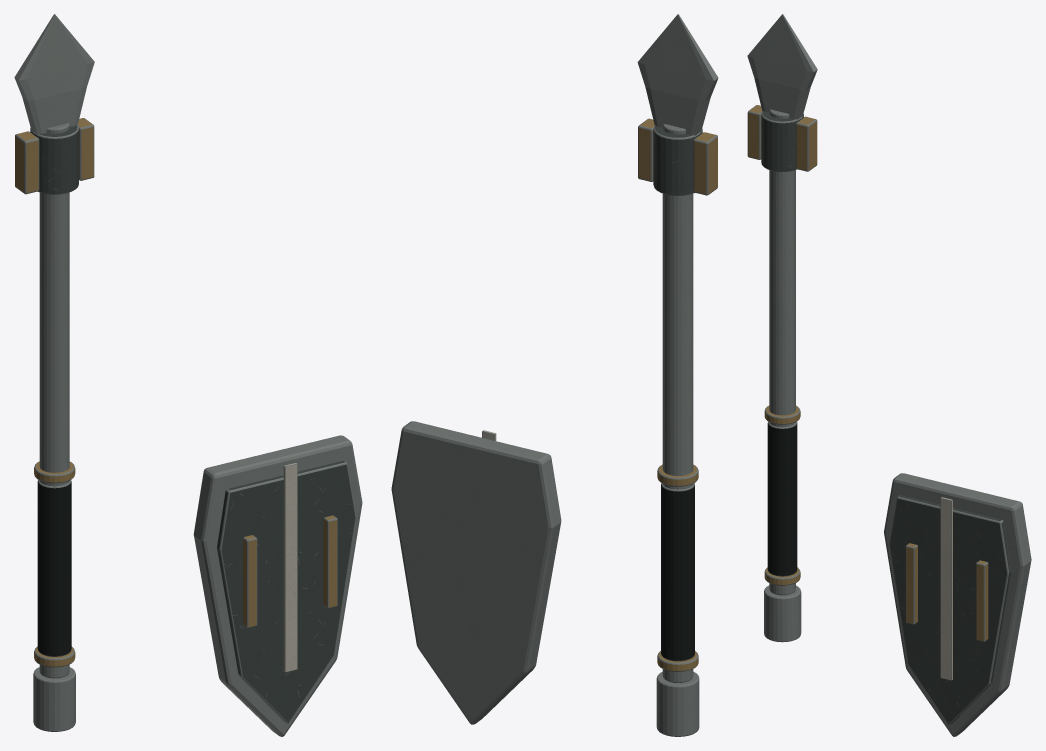
Rendered from spear_shield-t3.glb.
3 views of the same model, side by side, from view 1: azimuth 30°, elevation 25°; view 2: azimuth 150°, elevation 25°; view 3: azimuth 330°, elevation 25° (orthographic). The views are drawn at different scales.
Parts seen in each view (by area): view 1: Shield inset, Shield forged rim, Steel shaft, Continuous two-hand wrap, Forged spear point, Shield centre stripe, Spear socket housing, Spear rear counterweight, Socket stabilizer, Shield layered rib.001, Shield layered rib, Socket stabilizer.001; view 2: Shield forged rim, Steel shaft, Forged spear point, Continuous two-hand wrap, Spear socket housing, Spear rear counterweight, Socket stabilizer, Socket stabilizer.001, Grip ferrule.001; view 3: Shield inset, Shield forged rim, Steel shaft, Continuous two-hand wrap, Forged spear point, Shield centre stripe, Spear socket housing, Spear rear counterweight, Socket stabilizer.001, Shield layered rib, Shield layered rib.001, Socket stabilizer.
Part boxes in pixels (x1,y1,x2,y2): Shield inset: (217,460,355,723); Shield forged rim: (193,435,362,736); Steel shaft: (39,123,69,678); Continuous two-hand wrap: (37,480,71,656); Forged spear point: (14,14,94,134); Shield centre stripe: (283,463,297,672); Spear socket housing: (30,125,78,194); Spear rear counterweight: (33,667,75,731); Socket stabilizer: (15,131,39,194); Shield layered rib.001: (323,515,337,608); Shield layered rib: (243,535,257,628); Socket stabilizer.001: (78,118,94,180); Shield forged rim: (391,421,561,724); Steel shaft: (662,124,693,682); Forged spear point: (637,14,718,135); Continuous two-hand wrap: (661,483,694,661); Spear socket housing: (653,125,702,195); Spear rear counterweight: (656,671,699,736); Socket stabilizer: (693,132,717,195); Socket stabilizer.001: (638,118,654,181); Grip ferrule.001: (657,464,698,486); Shield inset: (889,495,1011,725); Shield forged rim: (884,473,1031,736); Steel shaft: (769,109,795,595); Continuous two-hand wrap: (767,421,797,576); Forged spear point: (747,14,817,119); Shield centre stripe: (940,497,952,680); Spear socket housing: (761,111,803,171); Spear rear counterweight: (764,585,801,642); Socket stabilizer.001: (796,116,817,171); Shield layered rib: (905,543,917,624); Shield layered rib.001: (976,560,988,641); Socket stabilizer: (747,105,762,159).
Bounding box in the file's own units: 1.56 × 3.44 × 0.315.
Materials: 5 (5 with a texture image).
